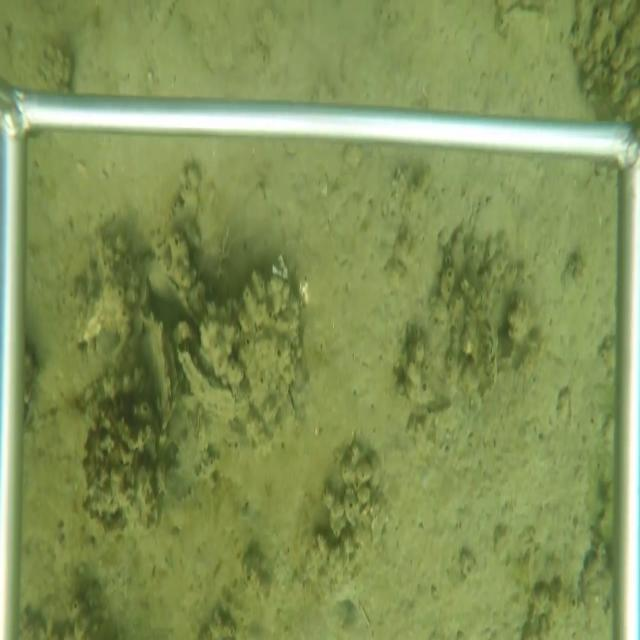Oyster-Closed: (139, 309, 180, 440), (177, 343, 239, 428)
